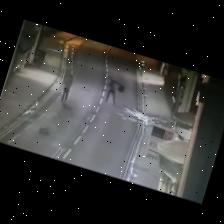person: (104, 79, 122, 103), (60, 74, 72, 102)
